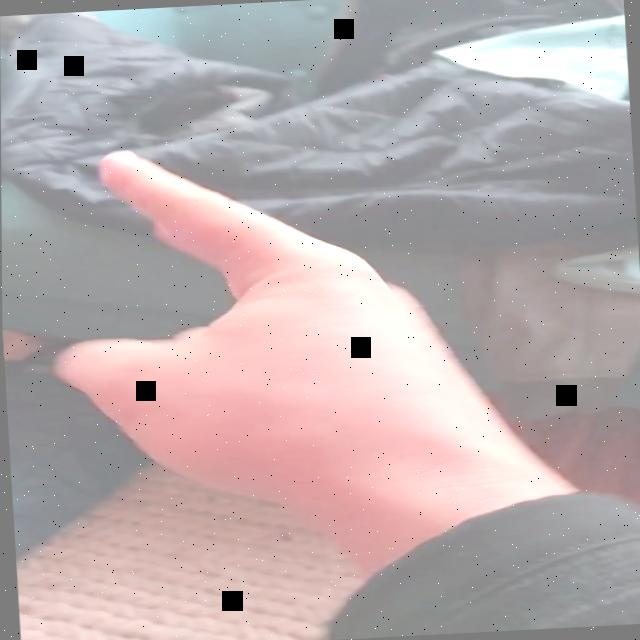Scissors: (43, 134, 504, 514)
